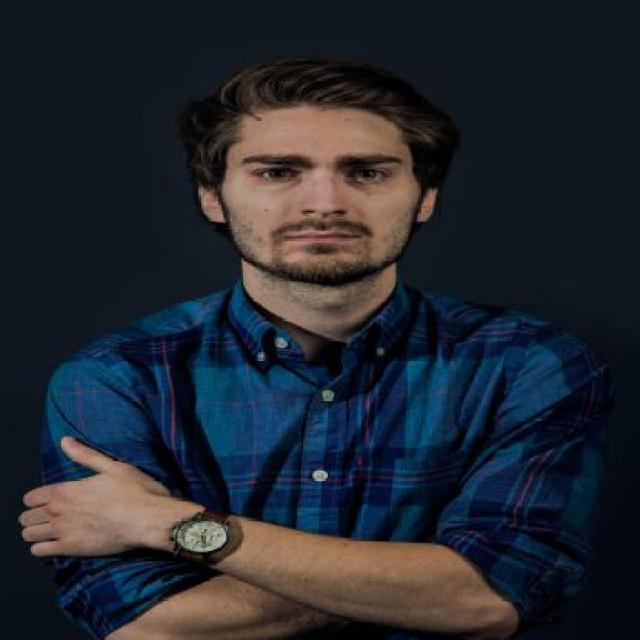closed-mouth: (282, 226, 360, 248)
